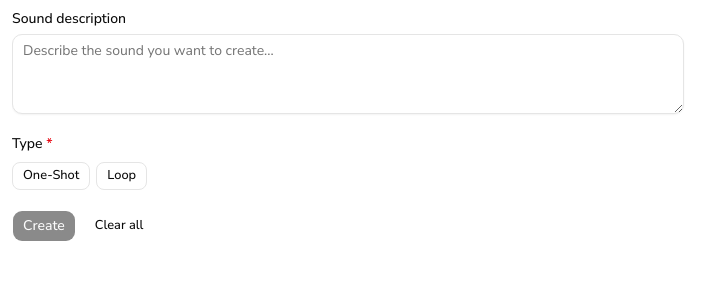
Test: SoundsCreationForm › submits a one-shot, polls, and surfaces the completed clips
This screenshot has width=704, height=298.
Type "a punchy kick" into the text box labelled "Sound description". click: (348, 74)
box: [12,34,684,114]
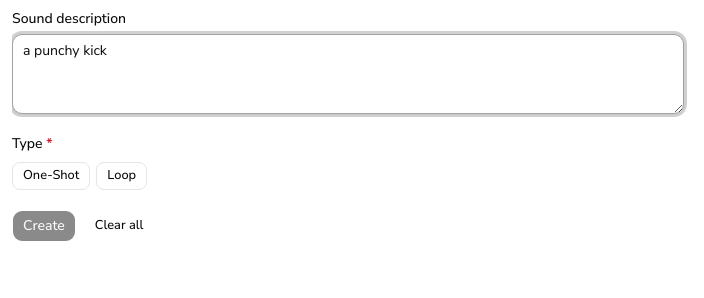
Click the button "One-Shot". click: (51, 176)
box: [12,162,90,190]
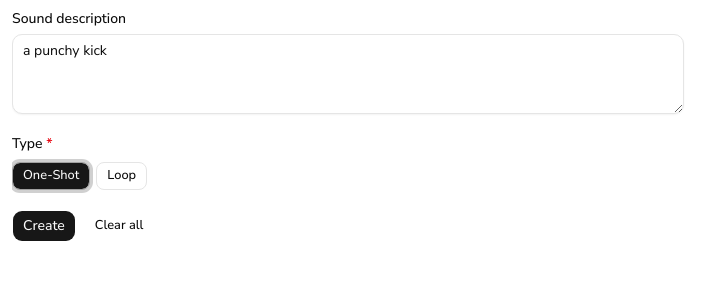
Click the button "Create". click: (44, 226)
box: [12,210,76,242]
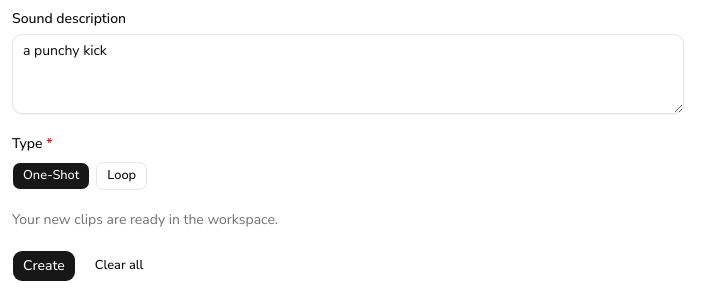
Check: the text "Your new clips are ready in the workspace." is shown, box [12,210,278,229]
